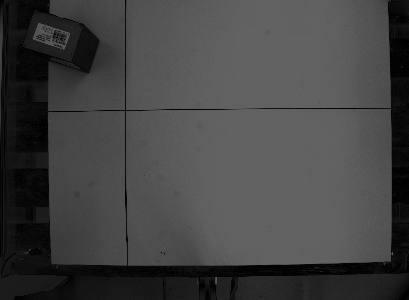b5: (19, 7, 104, 75)
